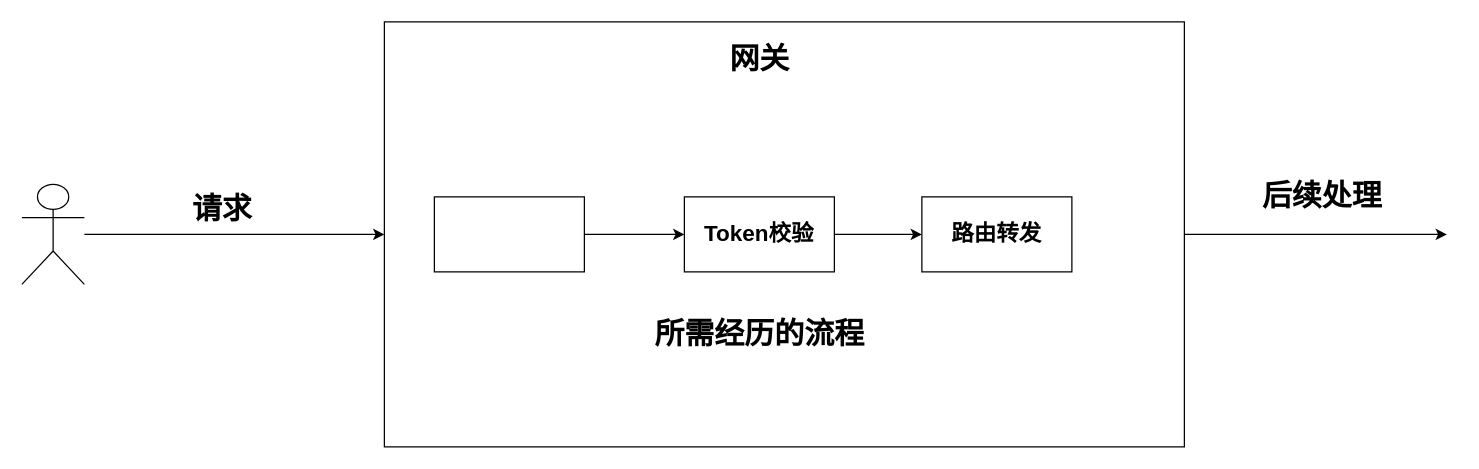
Some shapes in this 1479 by 469 pixel diagram are drawn without their labels. The shapes that lost their labels are listed below. From the top down, each one's centre as x and y in pixels, then its label:
(x=52, y=233): Actor
(x=508, y=234): 跨域处理
